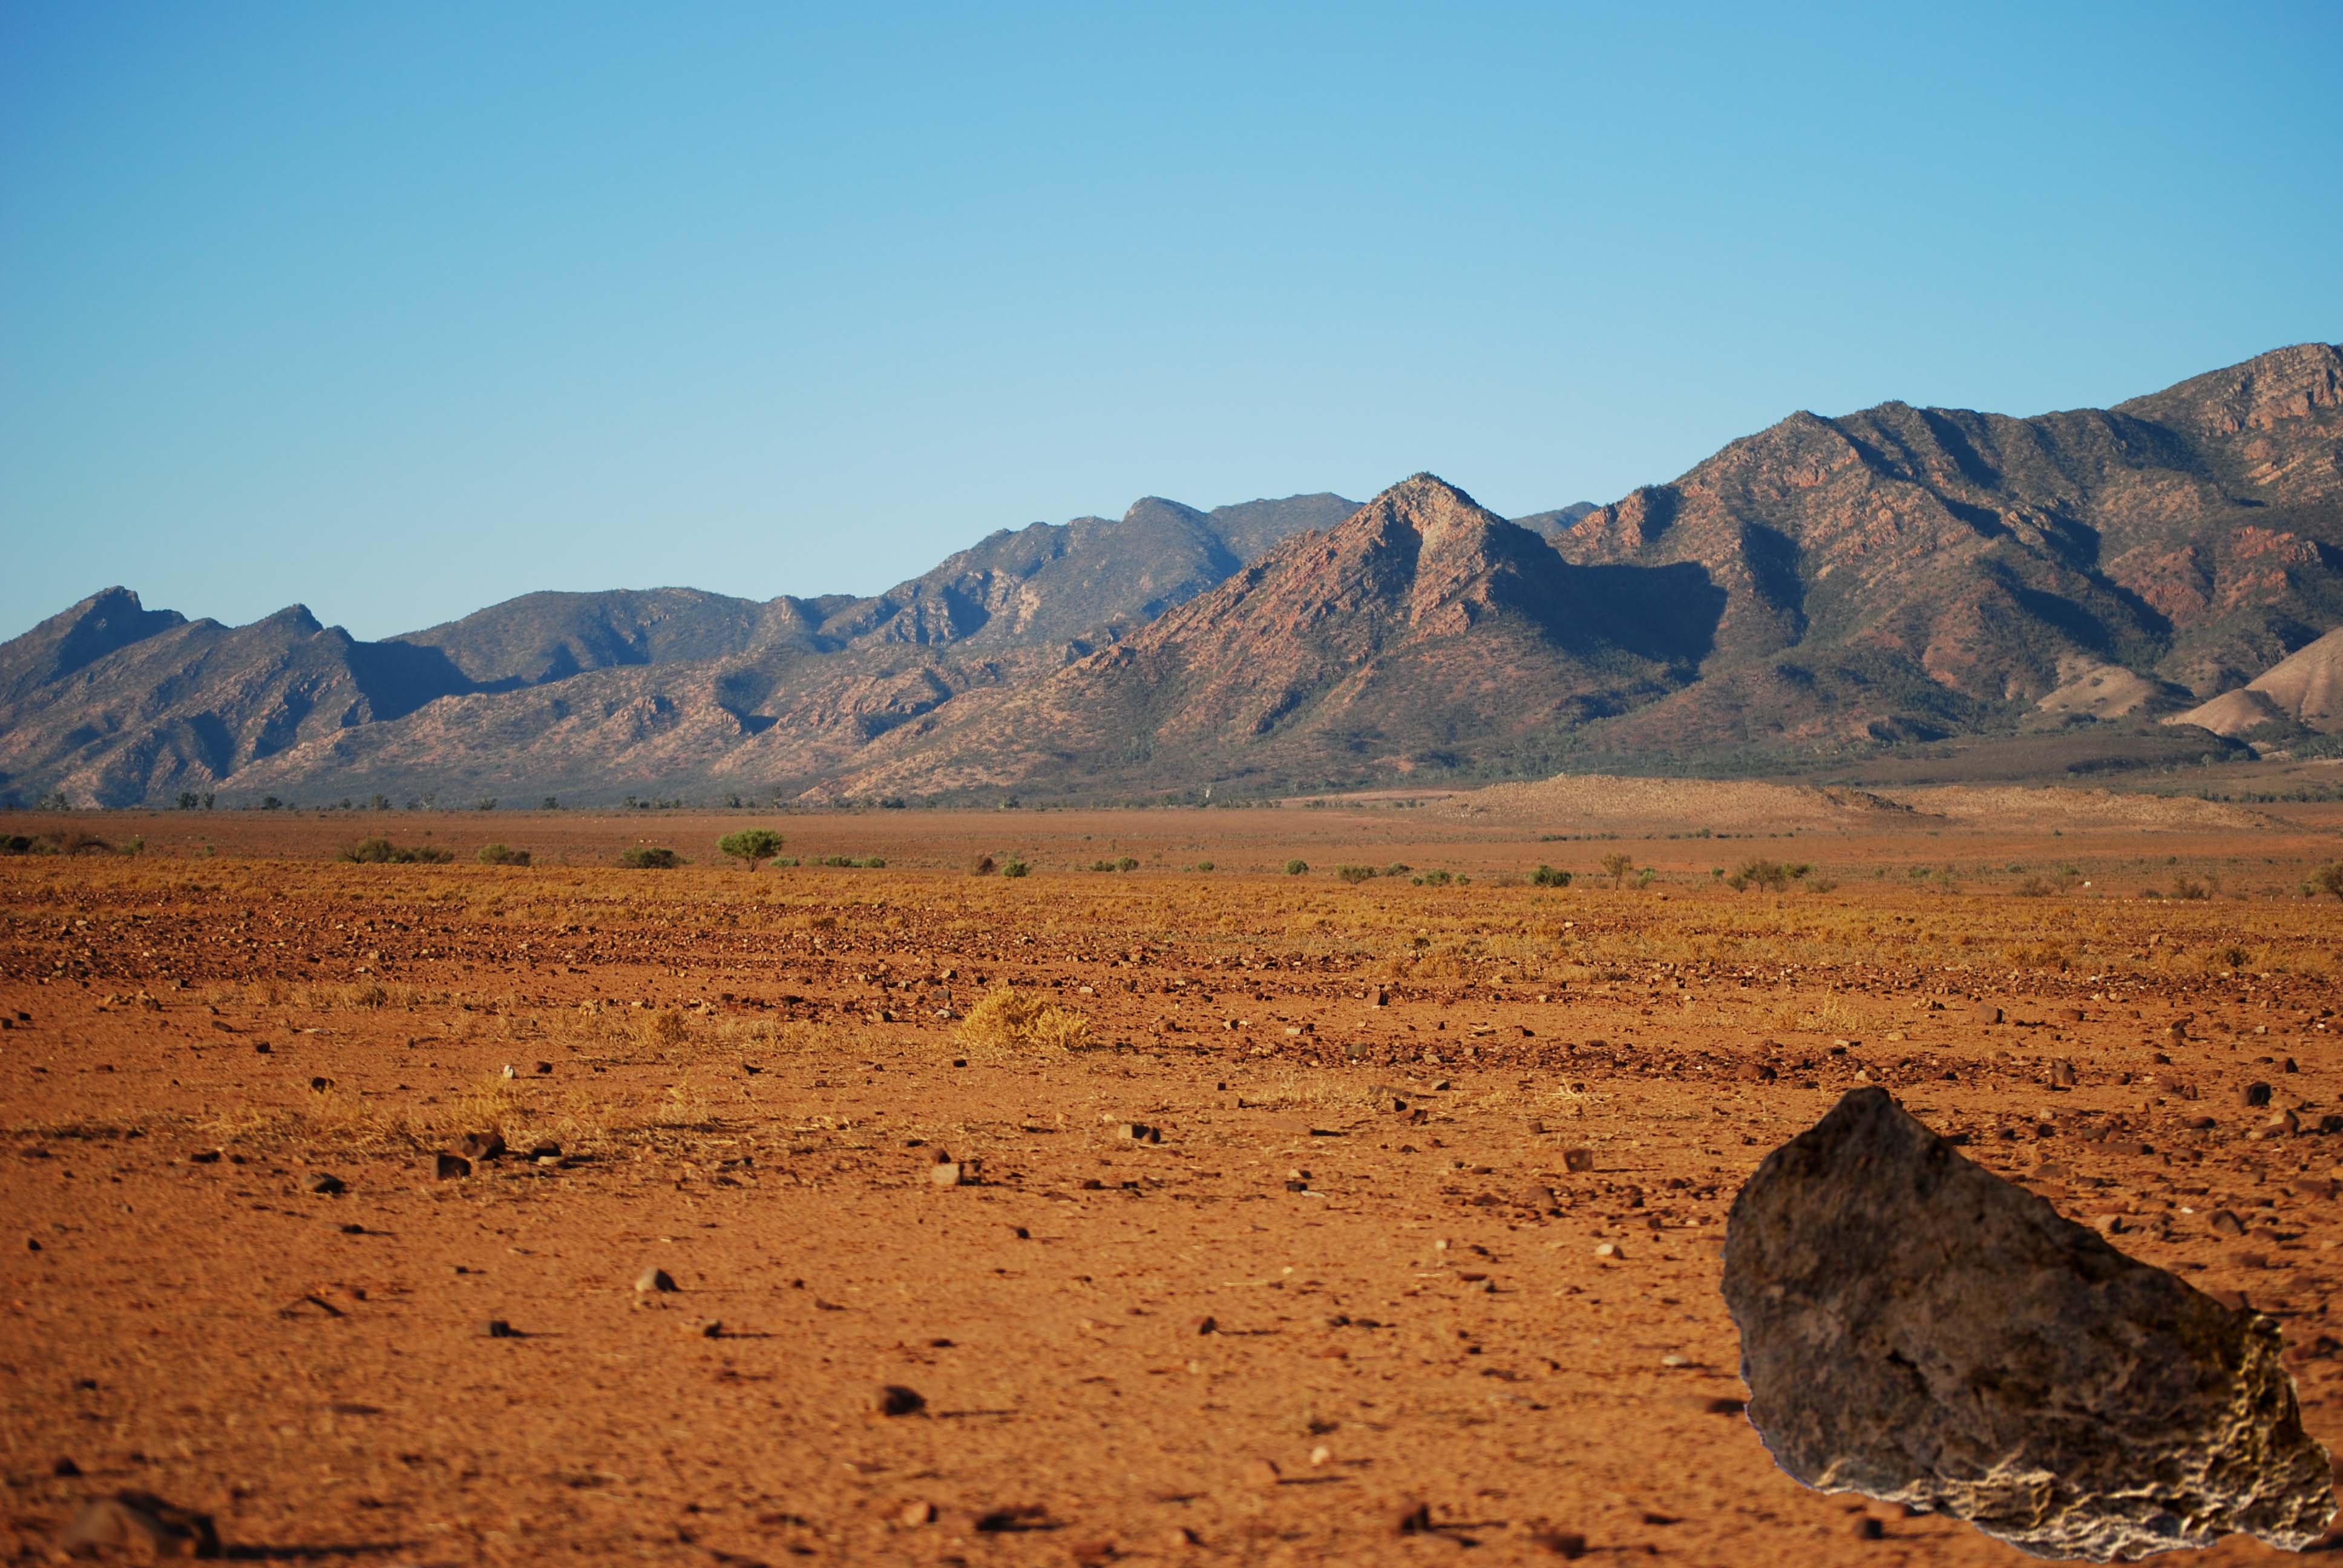Rocks: (1699, 1080, 2343, 1561)
